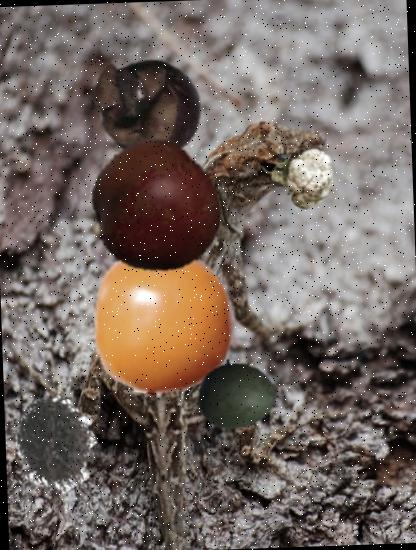Cauliflower: (268, 146, 336, 212)
Mango: (196, 352, 280, 437)
Mangostan: (87, 48, 206, 167)
Nectarine: (84, 140, 225, 280)
Rambutan: (8, 396, 104, 492)
Tomato: (87, 244, 241, 398)
